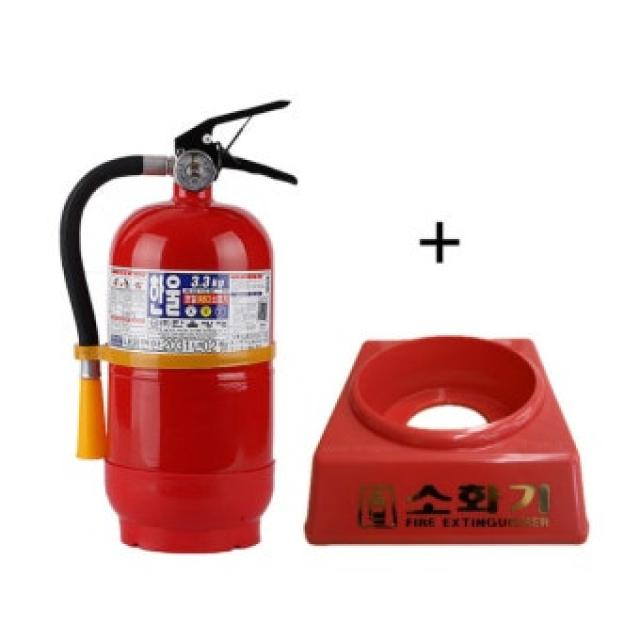pressure gauge: (176, 151, 218, 191)
